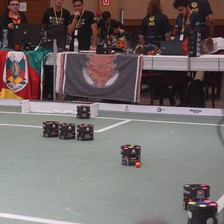ball: (133, 160, 141, 169)
goal: (19, 98, 98, 117)
robot: (186, 198, 219, 224), (182, 182, 212, 203), (118, 142, 143, 167), (74, 122, 94, 141), (57, 121, 76, 141), (40, 118, 58, 138), (74, 103, 91, 119)
